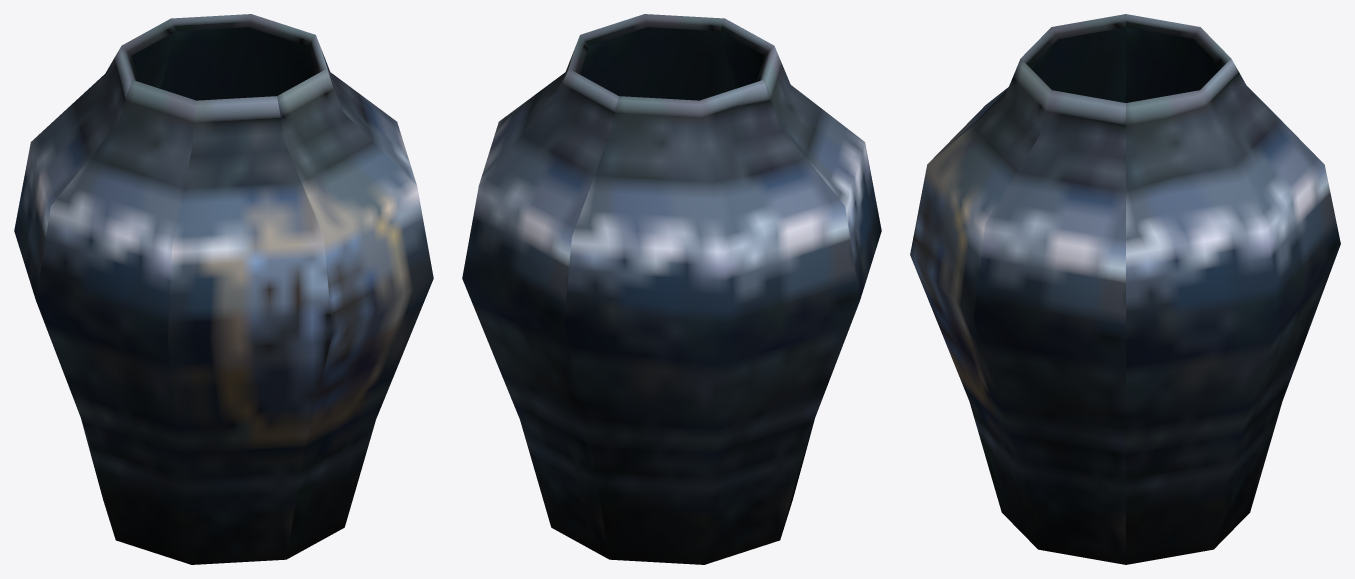
Rendered from general_obj_jar_blue01.glb.
The picture shows the model from 3 angles, left to right: view 1: azimuth 30°, elevation 25°; view 2: azimuth 150°, elevation 25°; view 3: azimuth 270°, elevation 25°; orthographic projection.
Parts seen in each view (by area): view 1: Object22; view 2: Object22; view 3: Object22.
Boxes of the visible parts, x1,y1,x2,y2 form: Object22: (14, 14, 433, 564); Object22: (462, 14, 881, 564); Object22: (910, 14, 1340, 564).
Bounding box in the file's own units: 0.7572 × 0.8784 × 0.7557.
1 material, 1 textured.
